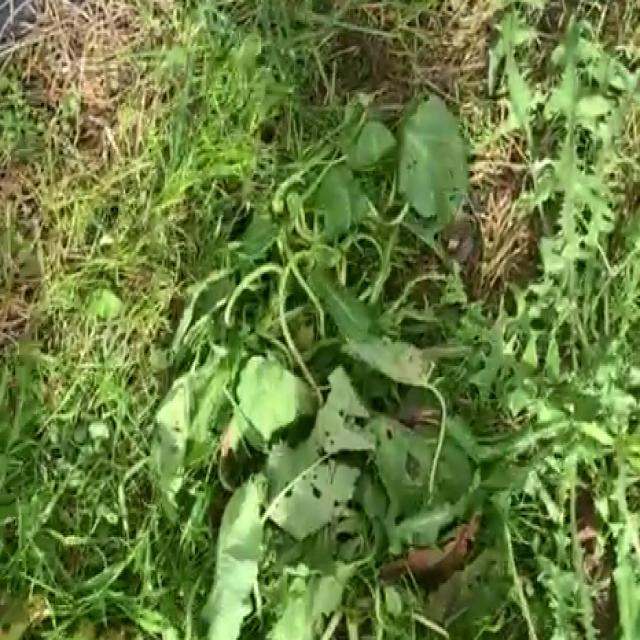organic waste: (99, 266, 500, 632), (185, 57, 444, 386)
